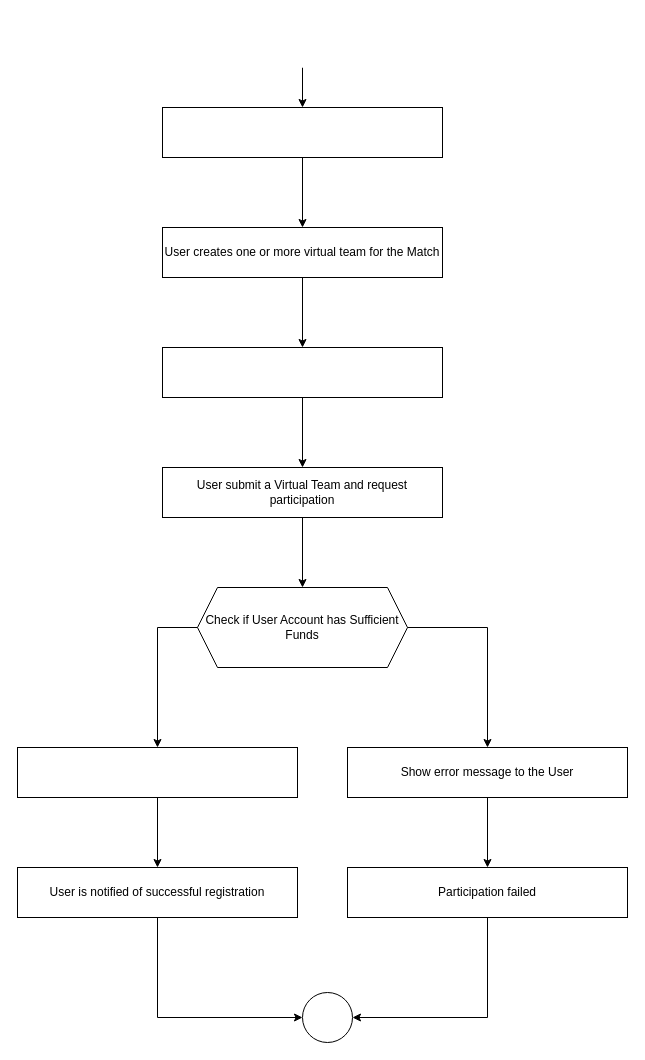
Some shapes in this 645 by 1060 pixel diagram are drawn without their labels. The shapes that lost their labels are listed below. From the top down, each one's centre as x and y in pixels, then its label:
At (x=302, y=132): "User selects a Match to participate in".
At (x=302, y=372): "User selects a Contest related to the Match to participare".
At (x=157, y=772): "Funds are deducted from the User Account".
